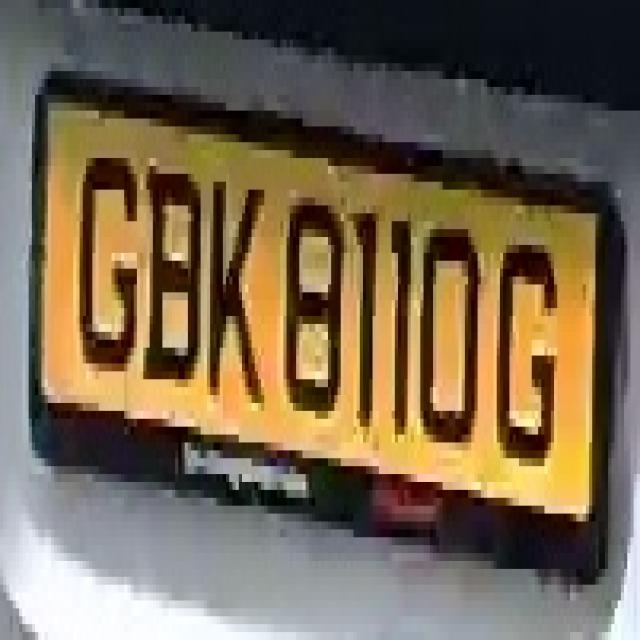0: (410, 205, 478, 442)
1: (382, 182, 411, 466), (350, 174, 376, 442)
8: (274, 158, 341, 442)
B: (143, 150, 201, 435)
G: (70, 126, 150, 411), (487, 213, 557, 482)
K: (201, 142, 264, 427)
